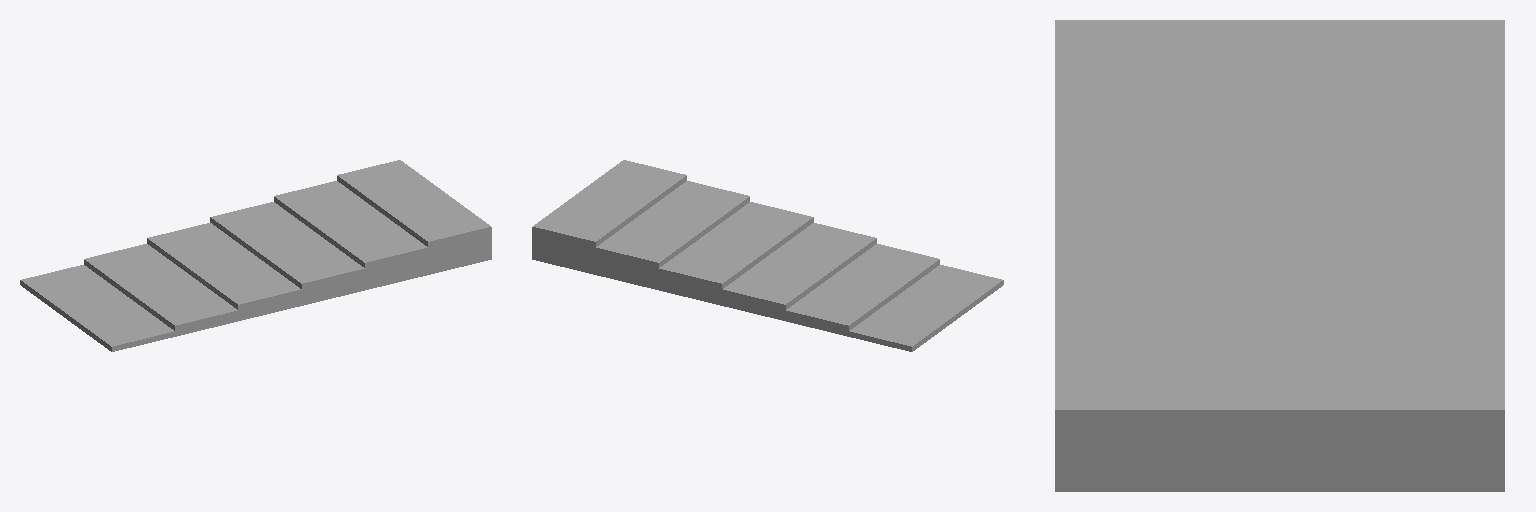
robot.urdf — newstair:
<?xml version="1.0" encoding="utf-8"?>
<!-- This URDF was automatically created by SolidWorks to URDF Exporter! Originally created by [author] ([email redacted]) 
     Commit Version: 1.4.2-27-gc3b3358  Build Version: 1.4.6891.25992
     For more information, please see http://wiki.ros.org/sw_urdf_exporter -->
<robot
  name="newstair">
  <link
    name="newstair">
    <inertial>
      <origin
        xyz="0.46 -2.25862270658653E-18 0.021667"
        rpy="0 0 0" />
      <mass
        value="17.01" />
      <inertia
        ixx="0.1315"
        ixy="3.72177036052346E-17"
        ixz="-0.02268"
        iyy="0.56865"
        iyz="7.77820108568376E-18"
        izz="0.69231" />
    </inertial>
    <visual>
      <origin
        xyz="0 0 0"
        rpy="1.5707963267949 0 0" />
      <geometry>
        <mesh
          filename="package://newstair/meshes/newstair2.STL" />
      </geometry>
      <material
        name="">
        <color
          rgba="0.69804 0.69804 0.69804 1" />
        <texture
          filename="package://newstair/textures/" />
      </material>
    </visual>
    <collision>
      <origin
        xyz="0 0 0"
        rpy="1.5707963267949 0 0" />
      <geometry>
        <mesh
          filename="package://newstair/meshes/newstair.STL" />
          <scale>10 10 10</scale>
      </geometry>
    </collision>
  </link>
</robot>

--- Render facts (derived) ---
3 views of the same robot in one strip: view 1: azimuth 30°, elevation 25°; view 2: azimuth 150°, elevation 25°; view 3: azimuth 270°, elevation 25° (orthographic).
Model newstair with 1 links and 0 joints (none), rooted at newstair, posed every joint at zero.
Visible links, largest first — view 1: newstair; view 2: newstair; view 3: newstair.
Boxes of the visible links, bbox=[...] form: newstair: bbox=[20, 160, 491, 351]; newstair: bbox=[532, 160, 1003, 351]; newstair: bbox=[1055, 20, 1504, 491].
Bounding box of the posed robot: 2.88 × 1.2 × 0.24 m (x, y, z).
Meshes: 1 distinct files referenced, 1 mesh visuals loaded (1 binary STL).